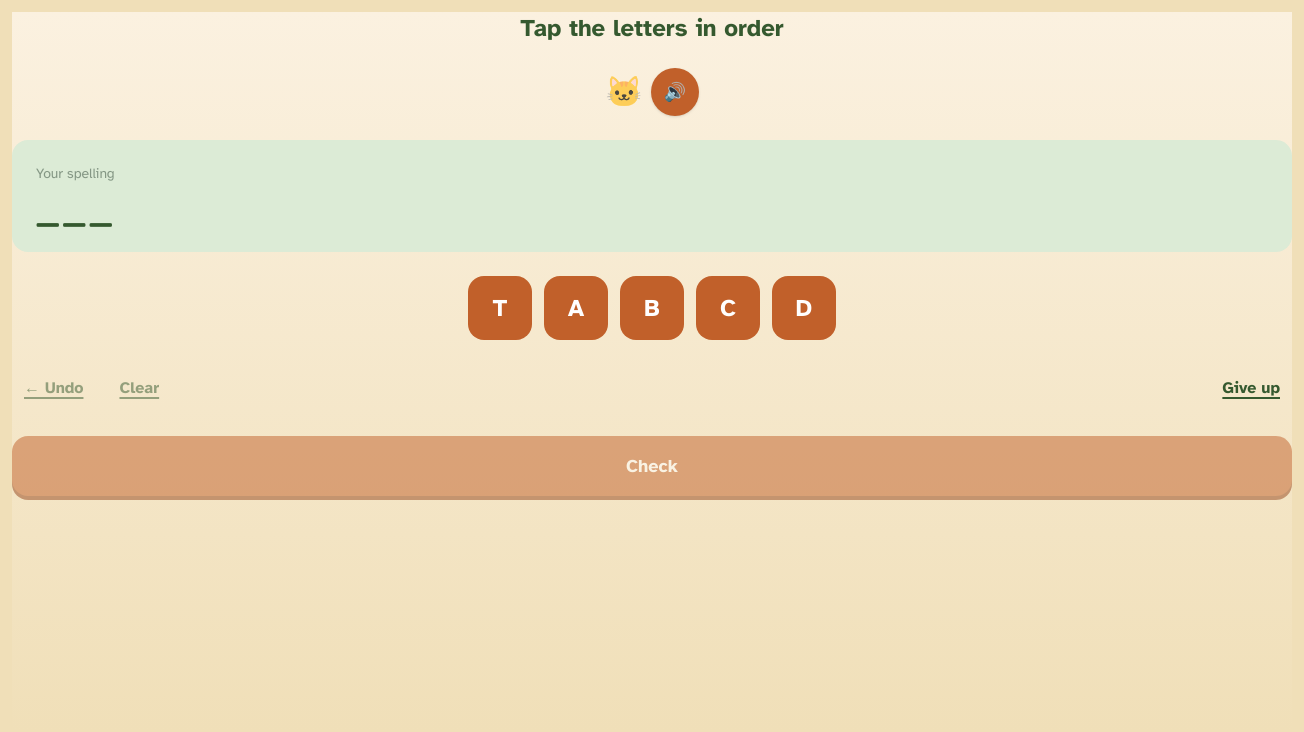
Test: SpellTiles › keeps Check disabled until a tile is placed, then confirms a correct answer
Expected: the button "Check" is disabled, 12,436 -> 1292,496
Click the button with test id "tile".
click(728, 308)  # box 696,276 -> 760,340
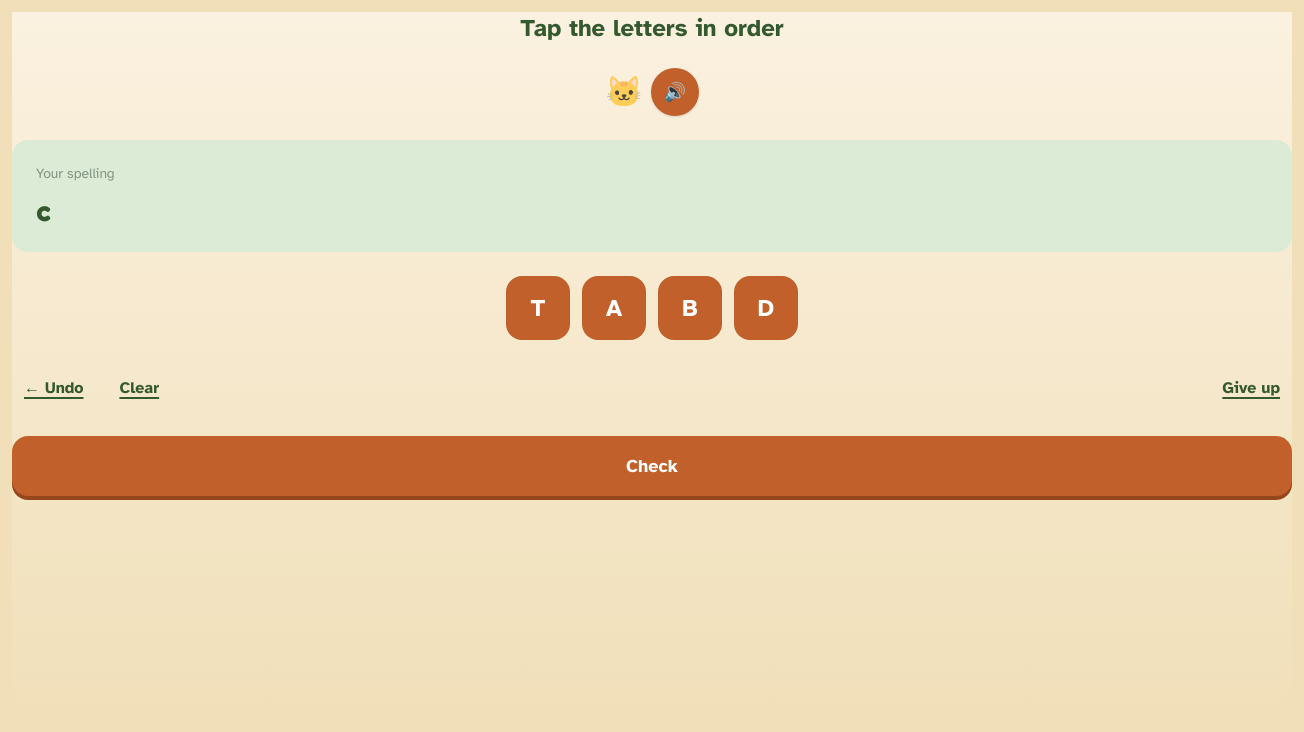
Click the button with test id "tile".
click(614, 308)  # box 582,276 -> 646,340
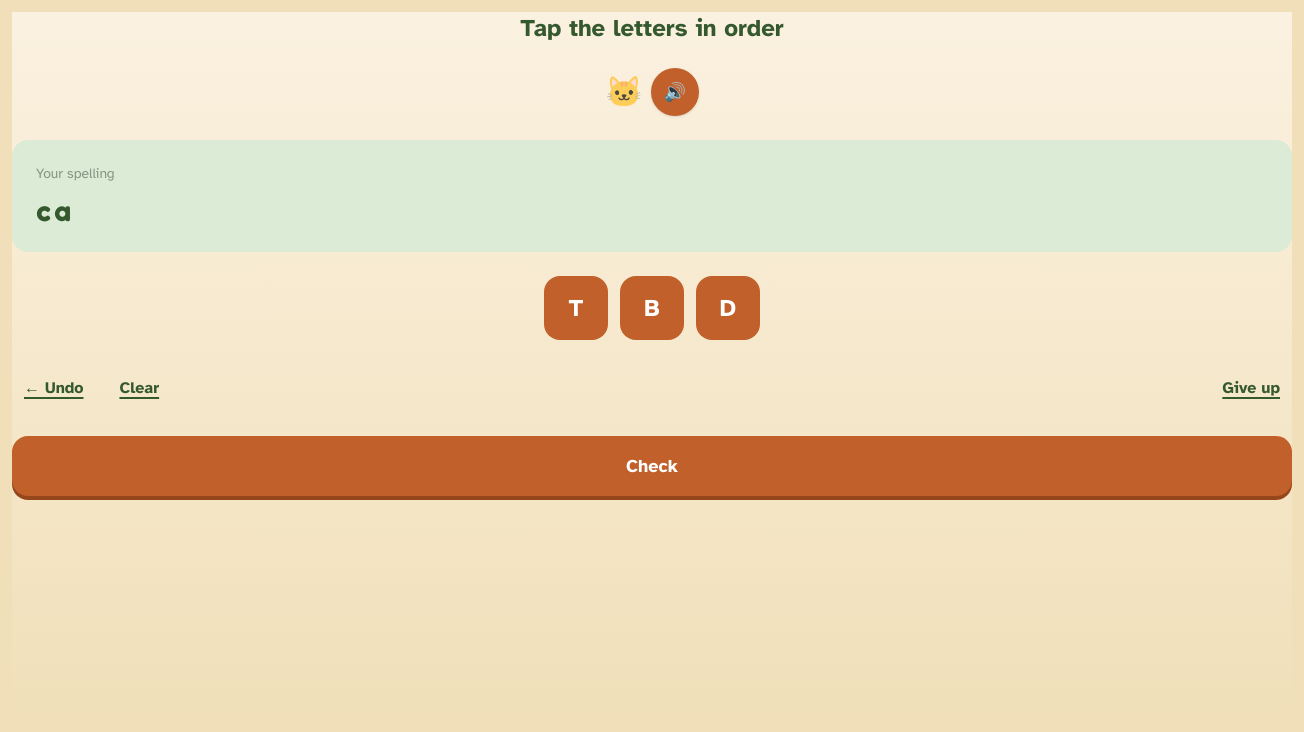
Click the button with test id "tile".
click(576, 308)  # box 544,276 -> 608,340
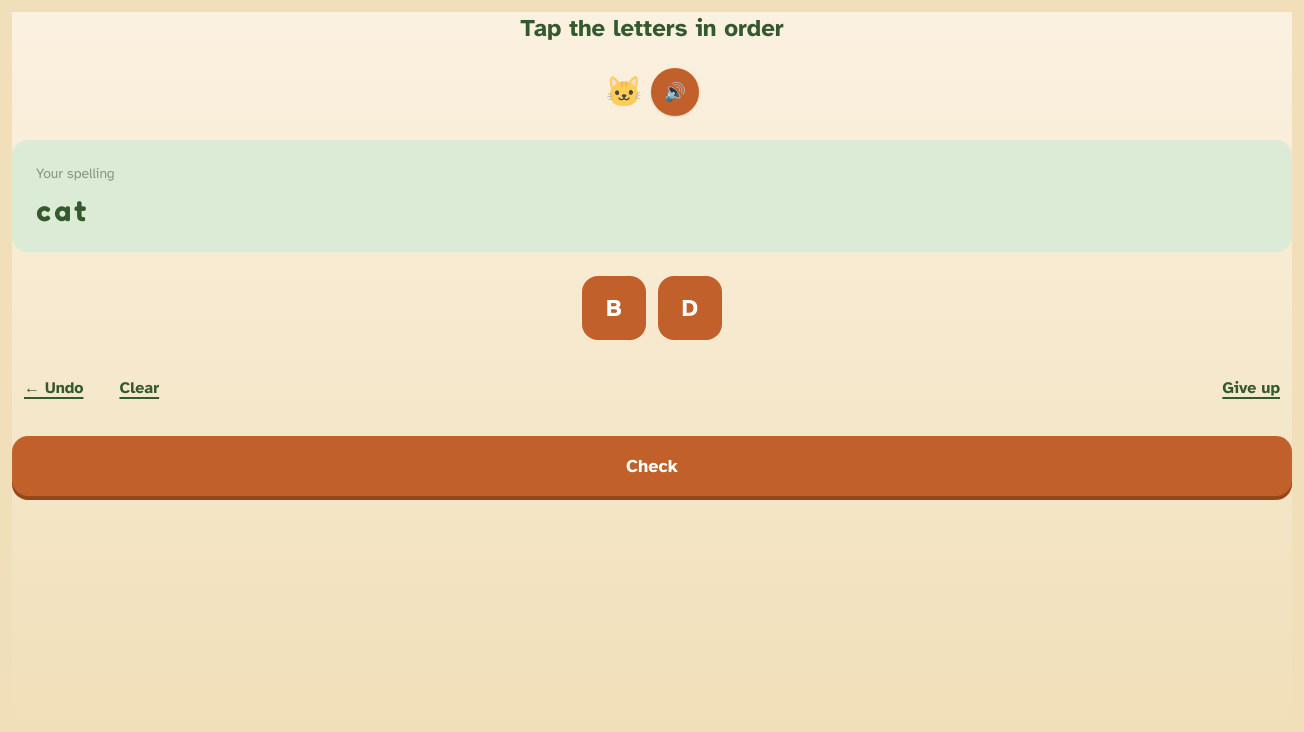
Expected: the button "Check" is enabled
Click the button "Check".
click(652, 466)  # box 12,436 -> 1292,496
Wait 1000 ms
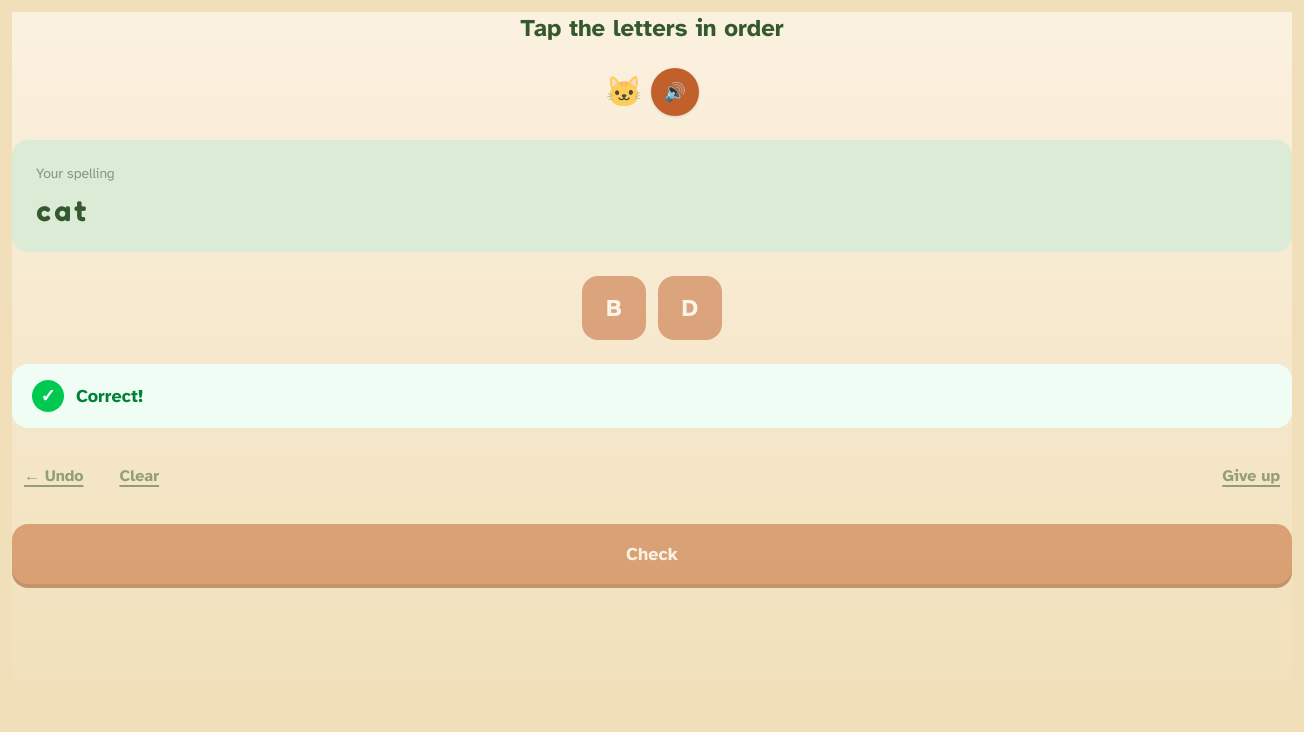
Expected: the text "Correct!" is shown, 76,382 -> 143,410
